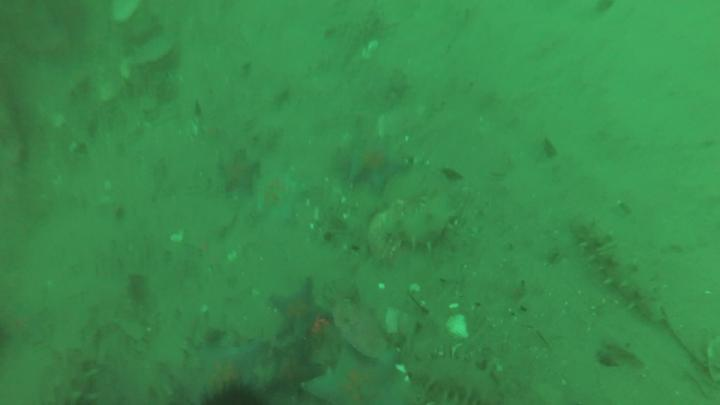holothurian: (575, 222, 666, 322), (410, 356, 499, 405), (390, 205, 455, 244)
starfish: (304, 351, 403, 405), (185, 341, 260, 396), (252, 165, 305, 225), (352, 138, 410, 192), (267, 282, 324, 336), (269, 345, 320, 389), (218, 154, 259, 193)
